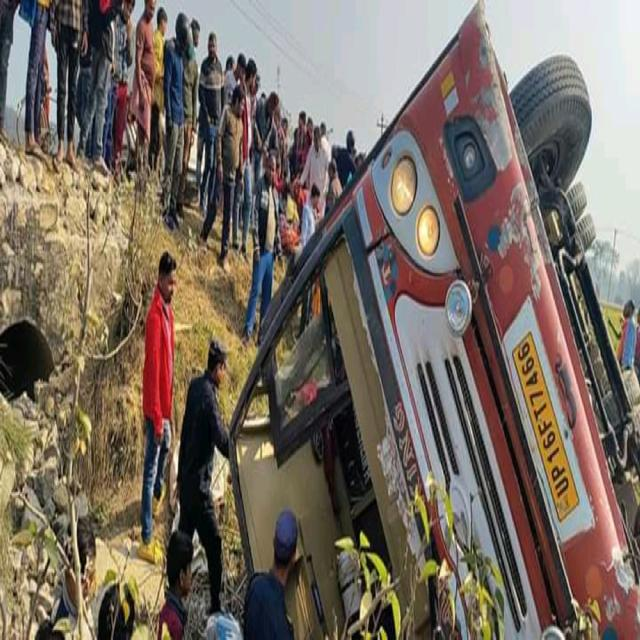accident: (230, 6, 640, 639)
